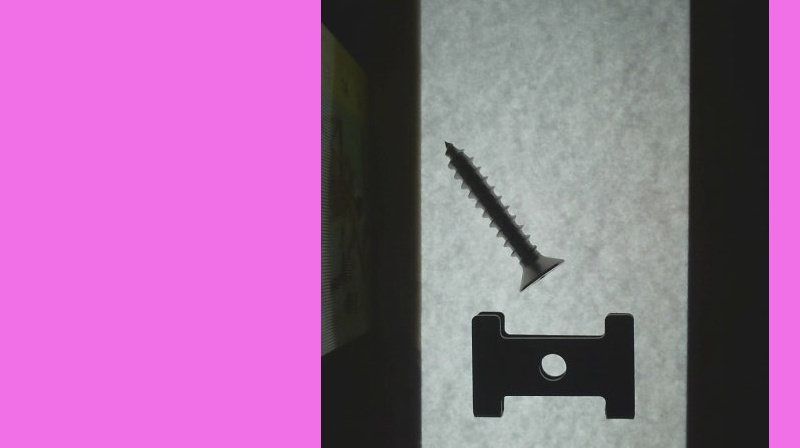O002: (468, 305, 639, 423)
S001: (438, 134, 567, 293)
